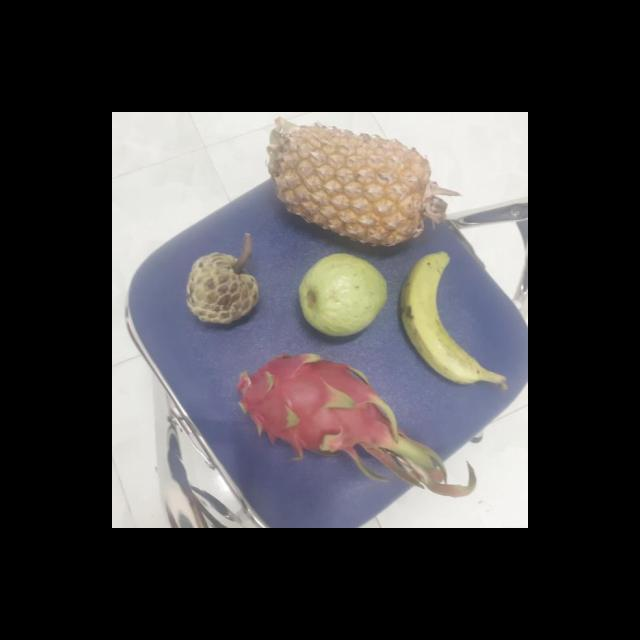Sakya fruit: (180, 250, 258, 326)
banana: (397, 252, 490, 388)
guava: (293, 256, 387, 337)
pineapple: (266, 123, 433, 252)
pitaya: (229, 353, 394, 460)
